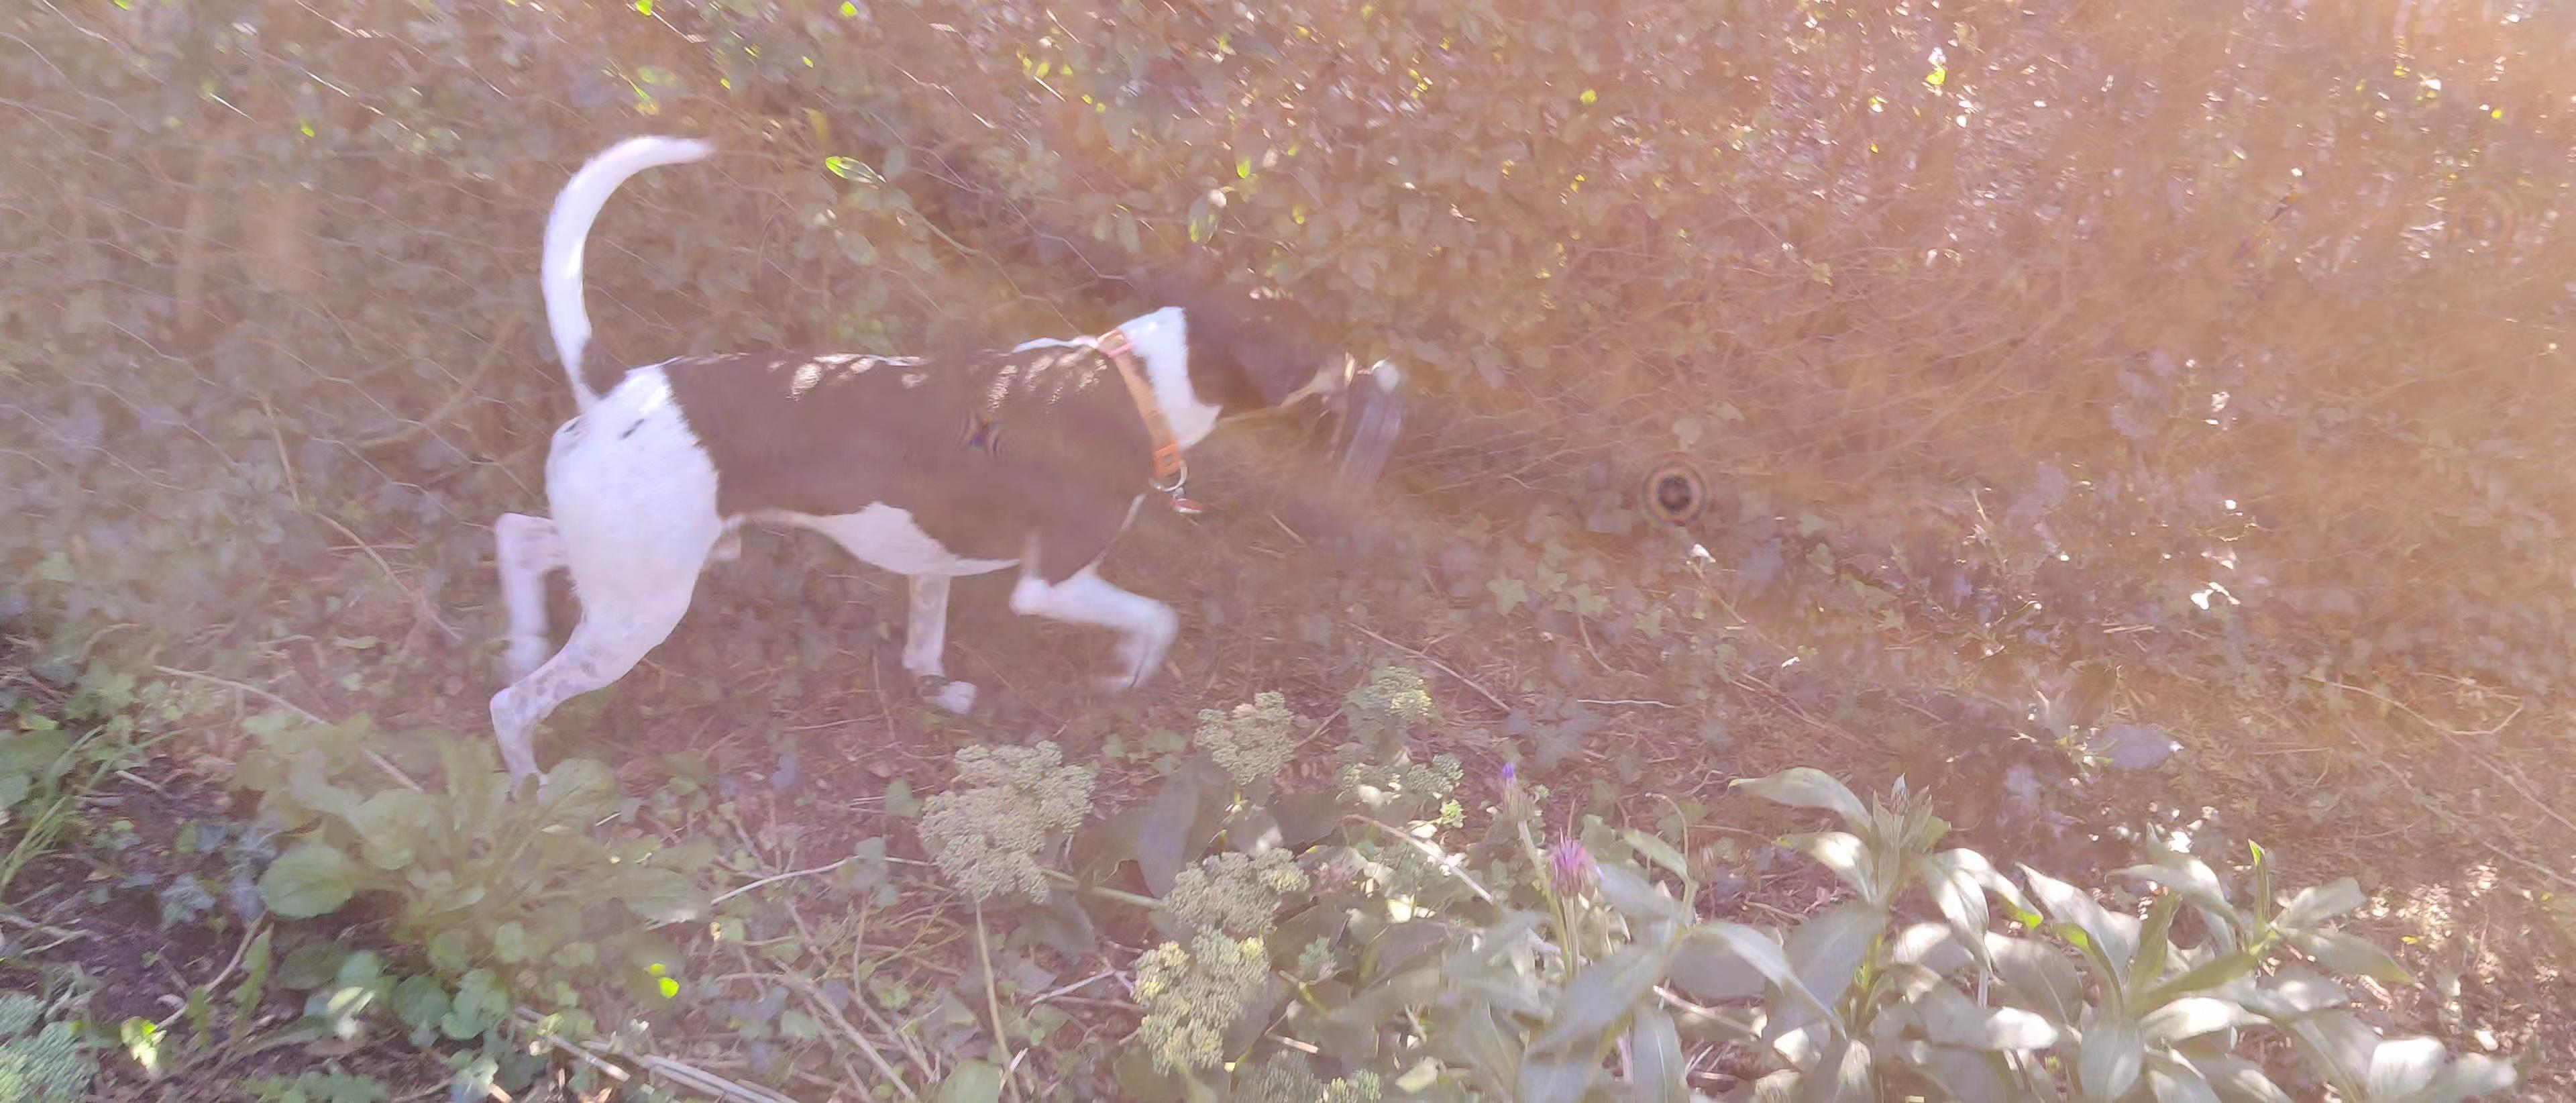Dog: (480, 128, 1365, 799)
